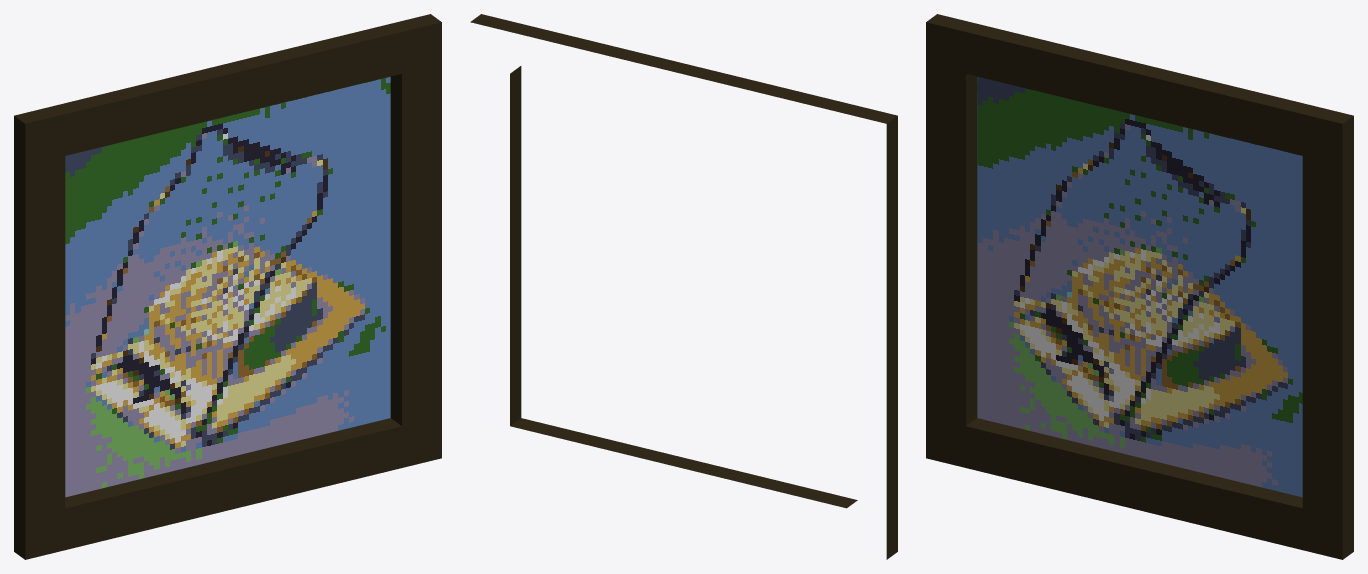
The model's file is Egg2.glb.
3 views of the same model, side by side, from view 1: azimuth 30°, elevation 25°; view 2: azimuth 150°, elevation 25°; view 3: azimuth 330°, elevation 25° (orthographic).
Parts seen in each view (by area): view 1: polySurface9, polySurface10; view 2: polySurface10; view 3: polySurface9, polySurface10.
Boxes of the visible parts, left/top/right/bottom form: polySurface9: left=65, top=76, right=390, bottom=497; polySurface10: left=14, top=14, right=441, bottom=559; polySurface10: left=470, top=14, right=897, bottom=559; polySurface9: left=977, top=76, right=1302, bottom=497; polySurface10: left=926, top=14, right=1353, bottom=559.
Bounding box in the file's own units: 1.24 × 1.24 × 0.0578.
Materials: 2 (1 with a texture image).
